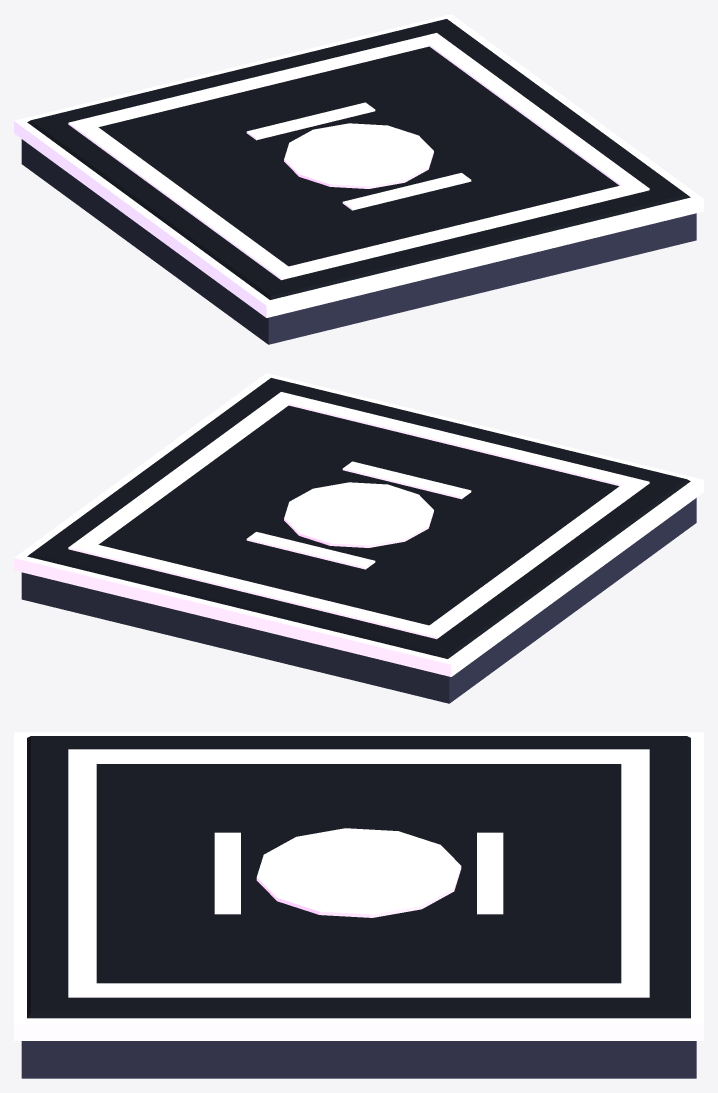
File: skyreach_nexus_elevator_v34.glb
3 renders of one model, top to bottom at view 1: azimuth 30°, elevation 25°; view 2: azimuth 150°, elevation 25°; view 3: azimuth 270°, elevation 25°, orthographic. The views are drawn at different scales.
Visible parts, largest first — view 1: skin; view 2: skin; view 3: skin.
Part boxes in pixels (bbox=[...]): skin: bbox=[14, 14, 703, 344]; skin: bbox=[14, 373, 703, 703]; skin: bbox=[14, 732, 703, 1078].
Size of the model in its own units: 3.68 by 0.38 by 3.68.
